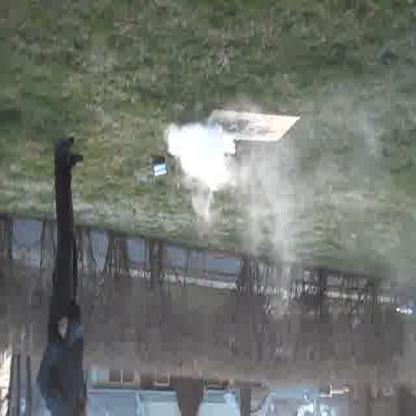Smoke: (169, 124, 240, 190)
